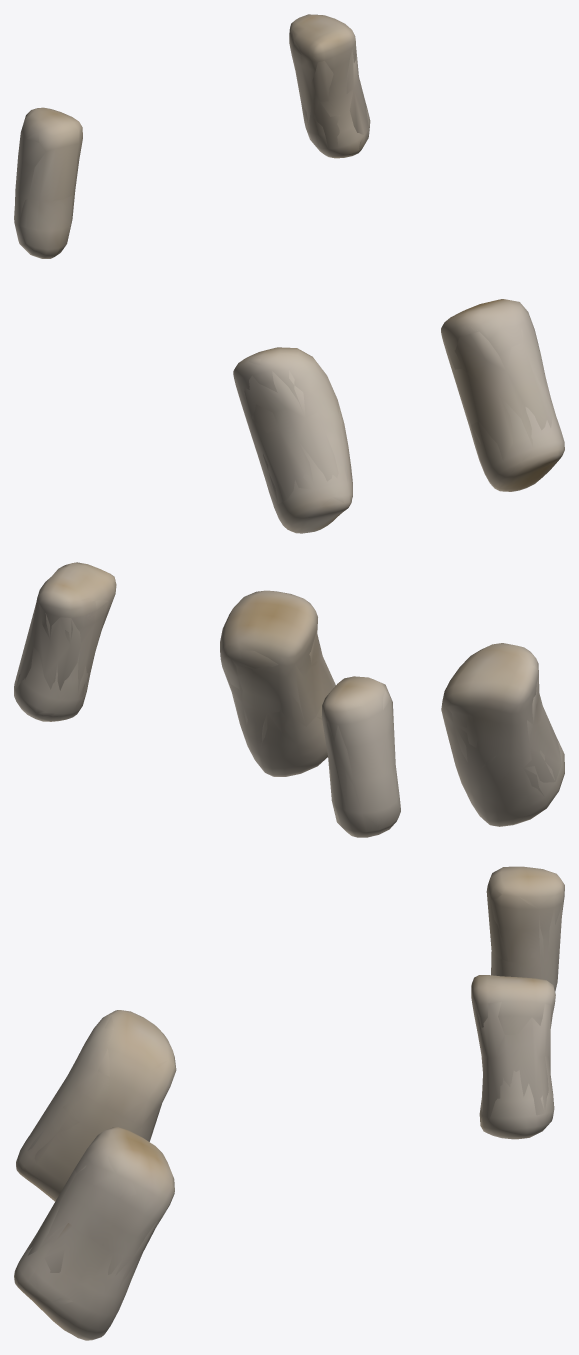
The model's file is BL 2nd Phalanx.fbx.
3 renders of one model, top to bottom at view 1: azimuth 30°, elevation 25°; view 2: azimuth 150°, elevation 25°; view 3: azimuth 270°, elevation 25°, orthographic. The views are drawn at different scales.
Visible parts, largest first — view 1: BL 2nd Phalanx, BL 2nd Phalanx low; view 2: BL 2nd Phalanx, BL 2nd Phalanx low; view 3: BL 2nd Phalanx, BL 2nd Phalanx low.
Part boxes in pixels (x1,y1,x2,y2): BL 2nd Phalanx: (14,14,564,533); BL 2nd Phalanx low: (17,25,564,531); BL 2nd Phalanx: (14,562,564,837); BL 2nd Phalanx low: (14,563,561,837); BL 2nd Phalanx: (14,866,564,1340); BL 2nd Phalanx low: (16,872,564,1334).
Size of the model in its own units: 3.43 by 3.08 by 4.29.
